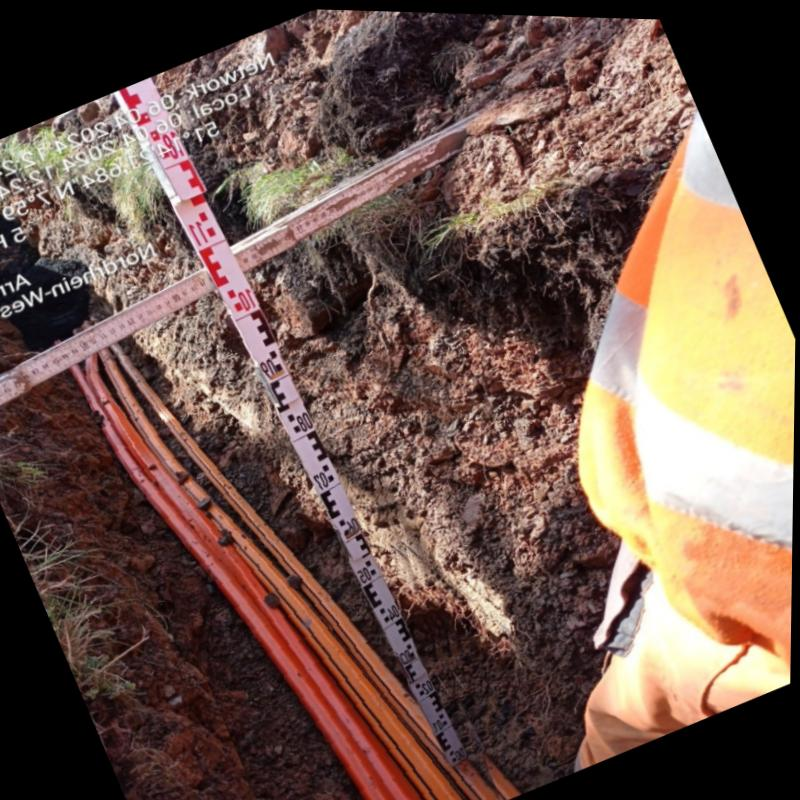Orang-Speednetrohrchen: (84, 352, 507, 800)
